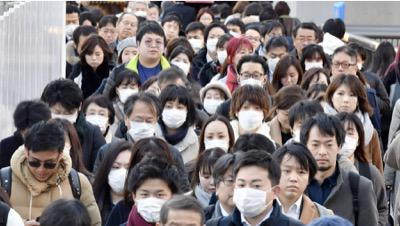with_mask: (232, 176, 271, 218), (135, 186, 171, 223), (128, 113, 156, 141), (238, 102, 264, 131), (162, 101, 187, 130), (108, 161, 129, 195), (338, 125, 358, 158), (204, 130, 230, 153), (85, 107, 108, 132), (203, 90, 225, 114), (50, 106, 78, 124), (239, 69, 264, 89), (118, 82, 138, 103), (206, 32, 223, 54), (268, 51, 286, 70), (187, 33, 204, 52), (303, 56, 323, 72), (65, 18, 79, 36), (216, 46, 228, 65)
without_mask: (279, 162, 309, 197), (307, 138, 337, 171), (27, 154, 59, 182), (139, 35, 164, 60), (332, 88, 358, 112), (218, 172, 235, 207), (295, 34, 316, 56), (331, 59, 354, 78), (198, 169, 215, 193), (118, 18, 138, 38), (280, 69, 299, 87), (86, 49, 104, 67), (100, 26, 118, 43), (163, 22, 179, 40), (245, 33, 260, 48), (121, 48, 137, 62)
